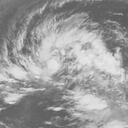cyclone: (26, 20, 104, 83)
